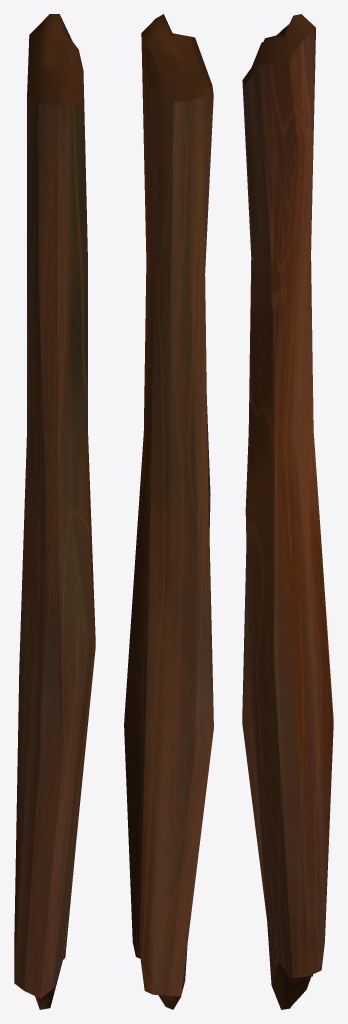
Rendered from Stick.fbx.
The picture shows the model from 3 angles, left to right: view 1: azimuth 90°, elevation 25°; view 2: azimuth 150°, elevation 25°; view 3: azimuth 330°, elevation 25°; orthographic projection.
Visible parts, largest first — view 1: Stick; view 2: Stick; view 3: Stick.
Boxes of the visible parts, <box> form: Stick: <box>14,14,95,1009</box>; Stick: <box>124,14,213,1009</box>; Stick: <box>242,14,333,1009</box>.
Bounding box in the file's own units: 0.9379 × 12.78 × 0.953.
1 material, 1 textured.
